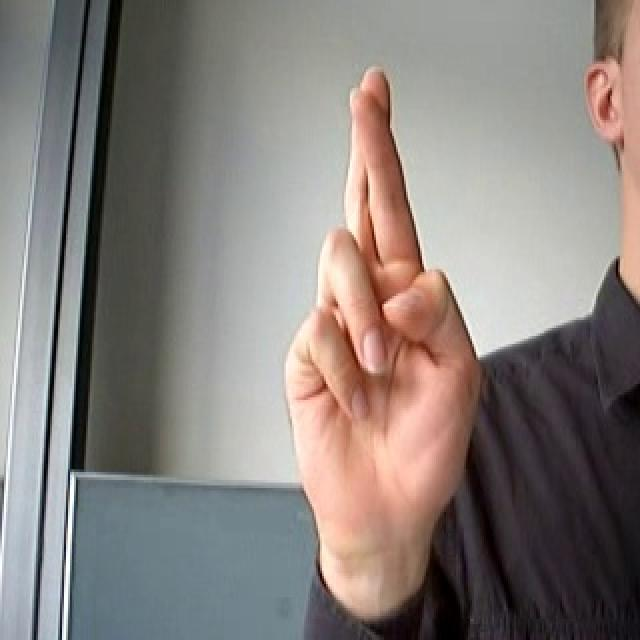R: (283, 64, 487, 598)
